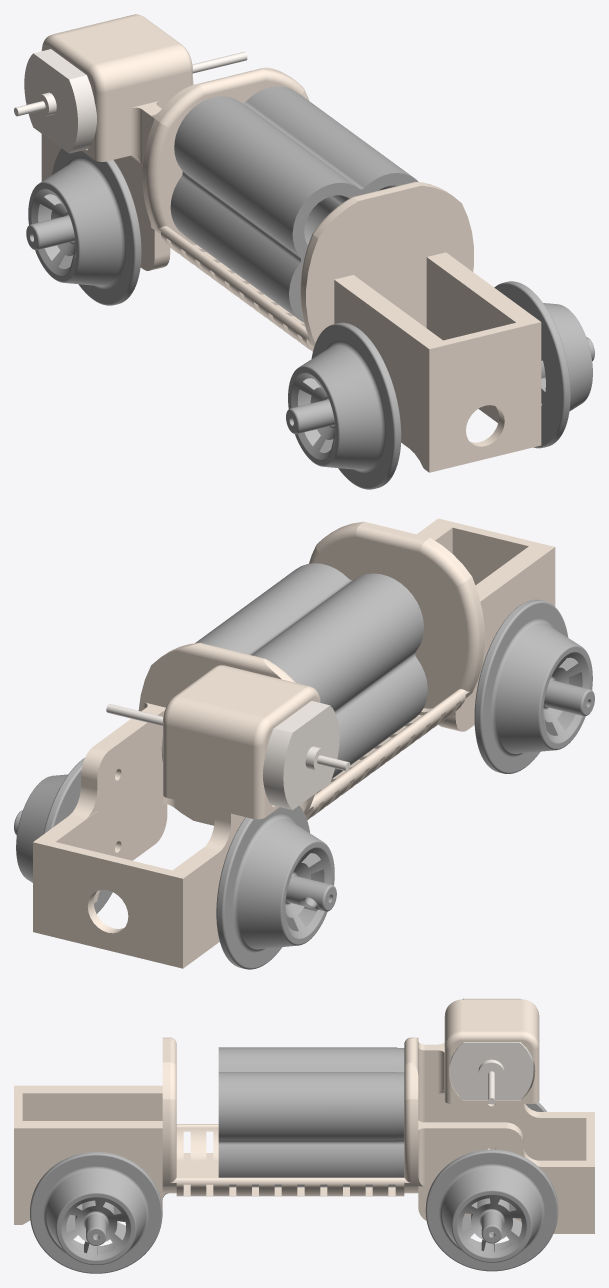
Rendered from rail-hauler.glb.
The picture shows the model from 3 angles, top to bottom: view 1: azimuth 30°, elevation 25°; view 2: azimuth 150°, elevation 25°; view 3: azimuth 270°, elevation 25°; orthographic projection. The views are drawn at different scales.
Parts seen in each view (by area): view 1: Samchassisproject2-1, battery sleevenew-1, train_wheel_cutouts_09_03_2025-4, train_wheel_cutouts_09_03_2025-2, train_wheel_cutouts_09_03_2025-3, motor-1, Battery box lidnew-1; view 2: Samchassisproject2-1, battery sleevenew-1, train_wheel_cutouts_09_03_2025-4, train_wheel_cutouts_09_03_2025-2, motor-1, train_wheel_cutouts_09_03_2025-5; view 3: Samchassisproject2-1, battery sleevenew-1, train_wheel_cutouts_09_03_2025-5, train_wheel_cutouts_09_03_2025-3, motor-1, Battery box lidnew-1.
Part boxes in pixels (x1,y1,x2,y2): Samchassisproject2-1: (41,14,541,472); battery sleevenew-1: (174,89,418,322); train_wheel_cutouts_09_03_2025-4: (286,322,401,489); train_wheel_cutouts_09_03_2025-2: (26,148,141,305); train_wheel_cutouts_09_03_2025-3: (494,281,594,448); motor-1: (14,49,247,153); Battery box lidnew-1: (170,86,295,234); Samchassisproject2-1: (33,518,555,968); battery sleevenew-1: (195,563,427,778); train_wheel_cutouts_09_03_2025-4: (474,599,594,773); train_wheel_cutouts_09_03_2025-2: (216,805,336,969); motor-1: (106,701,350,810); train_wheel_cutouts_09_03_2025-5: (14,758,112,913); Samchassisproject2-1: (14,999,594,1233); battery sleevenew-1: (218,1047,397,1187); train_wheel_cutouts_09_03_2025-5: (425,1149,558,1271); train_wheel_cutouts_09_03_2025-3: (30,1152,162,1273); motor-1: (449,998,533,1104); Battery box lidnew-1: (397,1048,404,1177).
Bounding box in the file's own units: 0.0824 × 0.0625 × 0.166.
